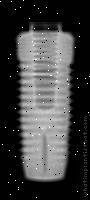Euroteknika: (11, 23, 76, 183)
